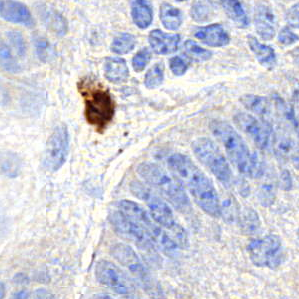Lymphocyte: (77, 76, 115, 130)
